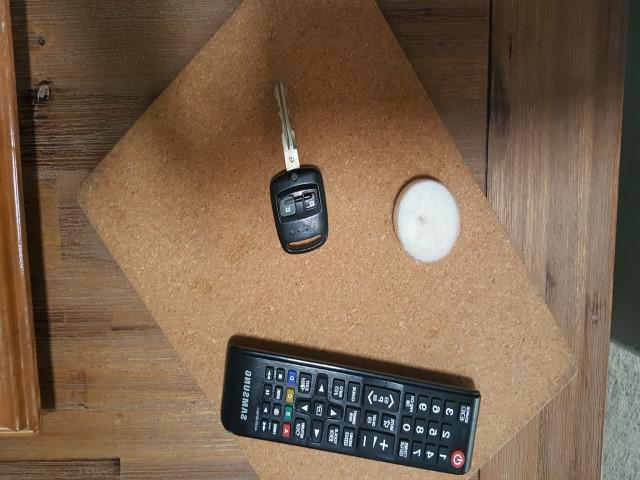key: (270, 79, 328, 328)
